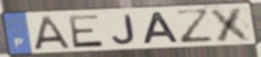A: (33, 15, 72, 52), (142, 11, 182, 46)
E: (66, 13, 105, 49)
J: (111, 14, 137, 46)
X: (207, 6, 256, 43)
Z: (173, 8, 217, 45)
